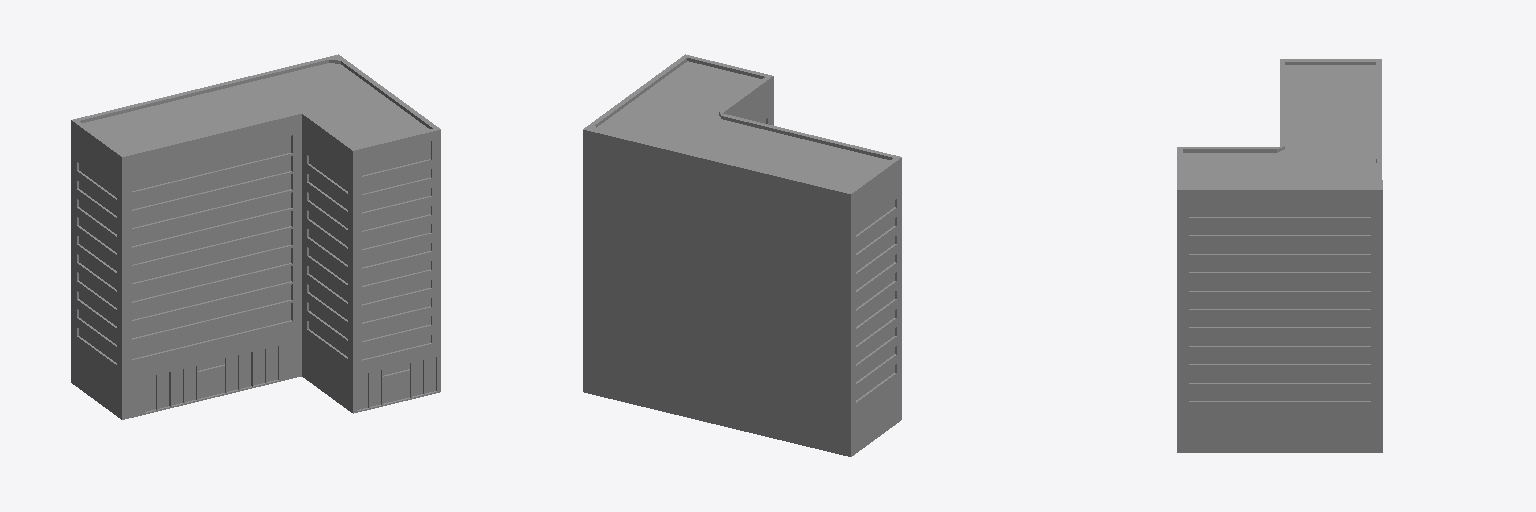
File: edificioc.obj
3 renders of one model, left to right at view 1: azimuth 30°, elevation 25°; view 2: azimuth 150°, elevation 25°; view 3: azimuth 270°, elevation 25°, orthographic.
Parts seen in each view (by area): view 1: Building10; view 2: Building10; view 3: Building10.
Part boxes in pixels (x1,y1,x2,y2): Building10: (71,54,440,419); Building10: (583,54,901,456); Building10: (1177,59,1382,452).
Bounding box in the file's own units: 14.72 × 13.8 × 9.76.